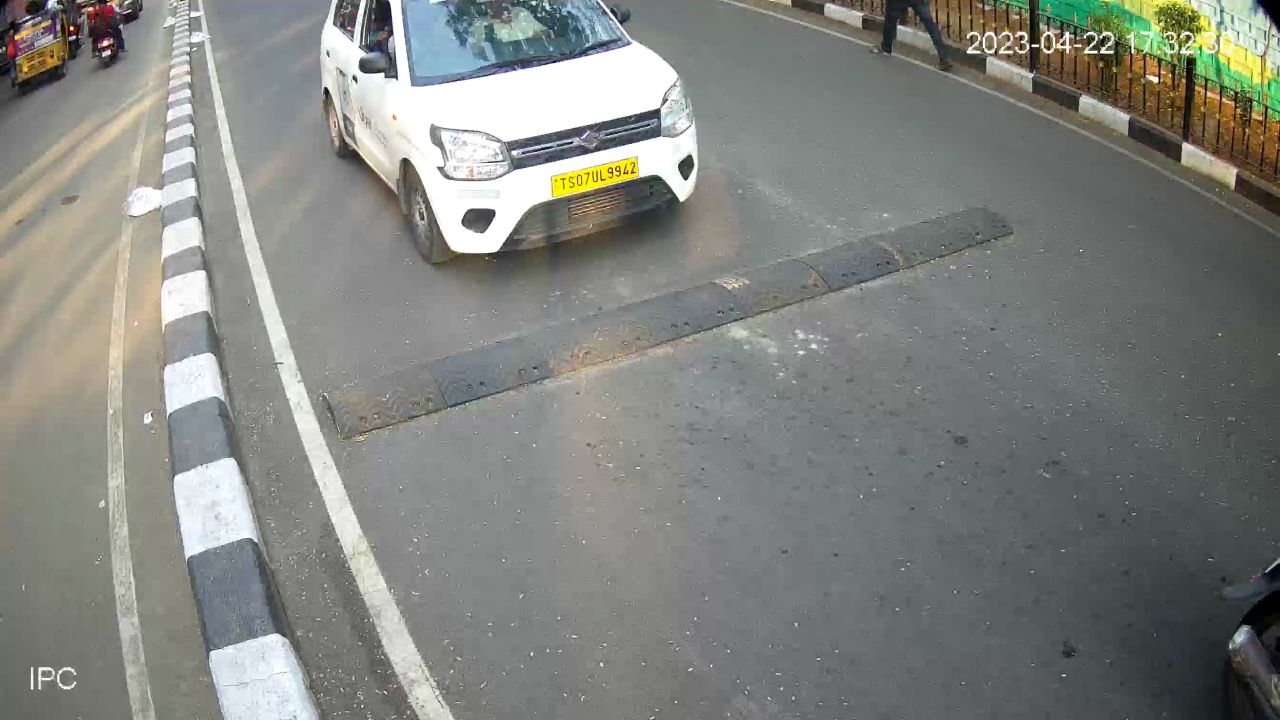license_plate: (543, 149, 643, 203)
